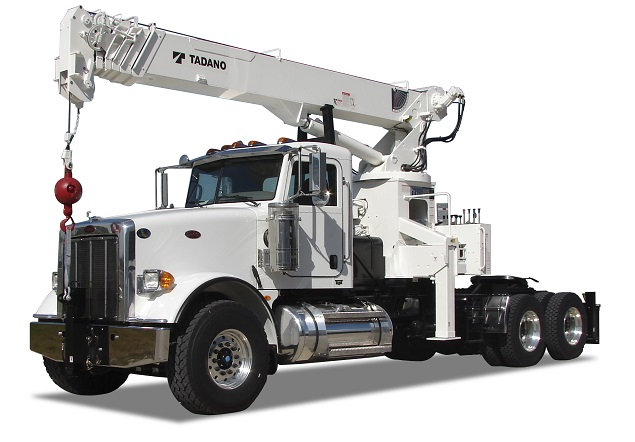crane: (32, 7, 598, 410)
